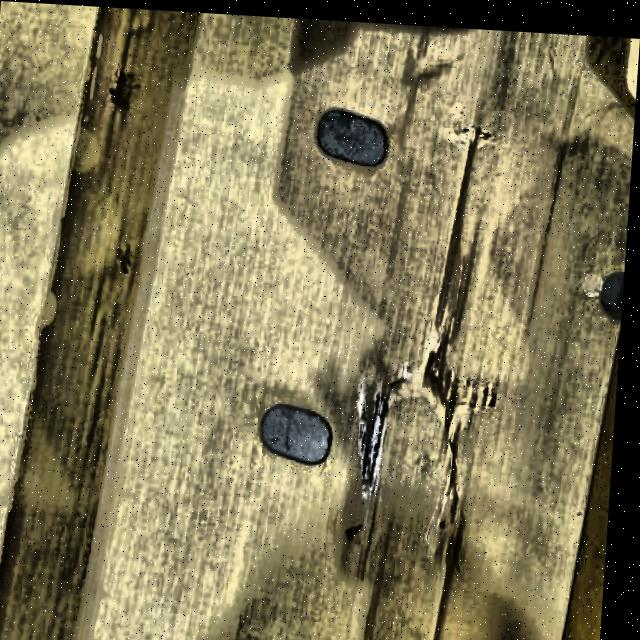cardboard: (0, 1, 640, 640)
